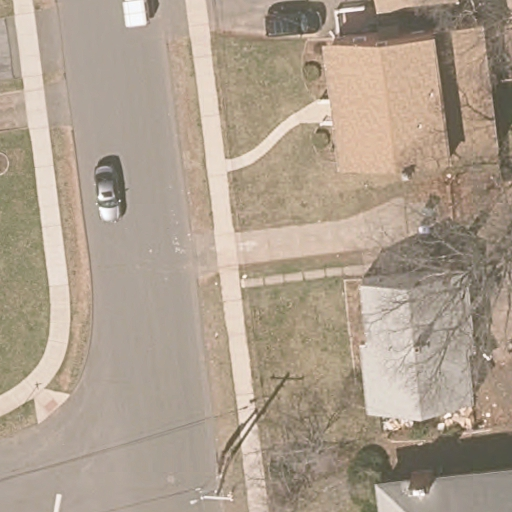DT: (190, 451, 239, 505)
